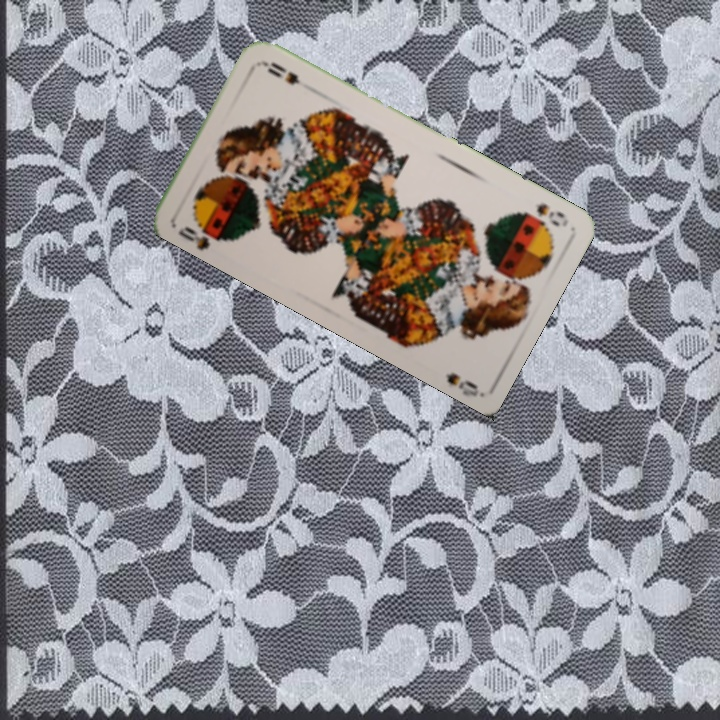SO: (174, 218, 231, 252), (520, 199, 571, 230)
